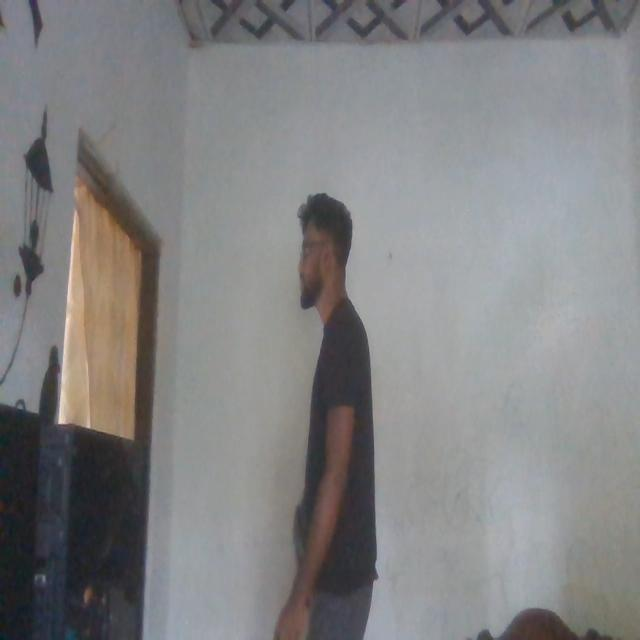Person: (261, 186, 391, 640)
